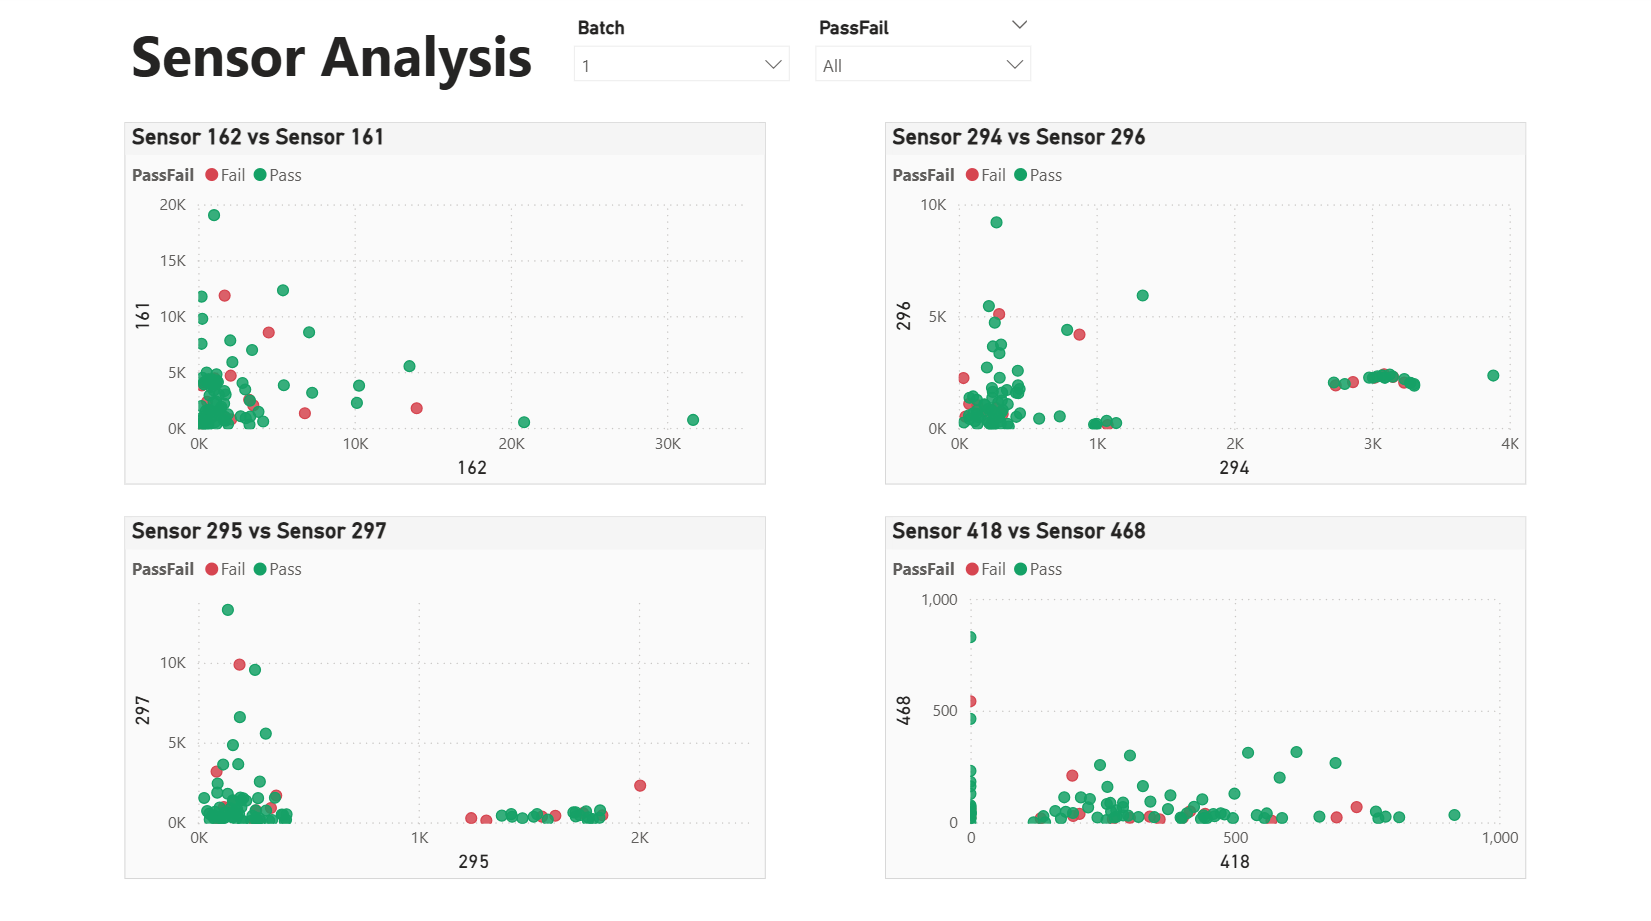

The dashboard page shown, as its layout file describes it:
{"tool":"powerbi","page":{"name":"Page 2","canvas":[1280,720],"ordinal":1},"visuals":[{"type":"textbox","box":[98.5,12.7,407.9,73],"z":0},{"type":"scatterChart","title":"Sensor 295 vs Sensor 297","fields":{"Series":["secom_cleaned.PassFail_Corrected"],"X":["secom_cleaned.295"],"Y":["secom_cleaned.297"]},"box":[98.3,404.4,495.5,280.3],"z":2000},{"type":"slicer","fields":{"Values":["secom_cleaned.PassFail_Corrected"]},"box":[622.3,12.7,186.6,99.7],"z":2500,"group":"g1"},{"type":"scatterChart","title":"Sensor 418 vs Sensor 468","fields":{"Series":["secom_cleaned.PassFail_Corrected"],"X":["secom_cleaned.418"],"Y":["secom_cleaned.468"]},"box":[685.8,404.2,495.5,280.3],"z":4000},{"type":"group","id":"g1","title":"Group 1","box":[435.7,12.7,373.1,99.7],"z":4500},{"type":"scatterChart","title":"Sensor 294 vs Sensor 296","fields":{"Series":["secom_cleaned.PassFail_Corrected"],"X":["secom_cleaned.294"],"Y":["secom_cleaned.296"]},"box":[685.8,99.7,495.5,280.3],"z":5000},{"type":"slicer","fields":{"Values":["secom_cleaned.Batch"]},"box":[435.7,12.7,186.6,99.7],"z":6000,"group":"g1"},{"type":"scatterChart","title":"Sensor 162 vs Sensor 161","fields":{"X":["secom_cleaned.162"],"Y":["secom_cleaned.161"],"Series":["secom_cleaned.PassFail_Corrected"]},"box":[98.3,99.9,495.5,280.3],"z":6500}]}

Visuals, with their boxes in screenshot pixels (x1, y1, x2, y2), scaled from the page's 1280x720 canvas onto the 1651x921 screenshot:
textbox: (127, 16, 653, 110)
"Sensor 295 vs Sensor 297" scatterChart: (127, 517, 766, 876)
slicer - secom_cleaned.PassFail_Corrected: (803, 16, 1043, 144)
"Sensor 418 vs Sensor 468" scatterChart: (885, 517, 1524, 876)
"Group 1" group: (562, 16, 1043, 144)
"Sensor 294 vs Sensor 296" scatterChart: (885, 128, 1524, 486)
slicer - secom_cleaned.Batch: (562, 16, 803, 144)
"Sensor 162 vs Sensor 161" scatterChart: (127, 128, 766, 486)
